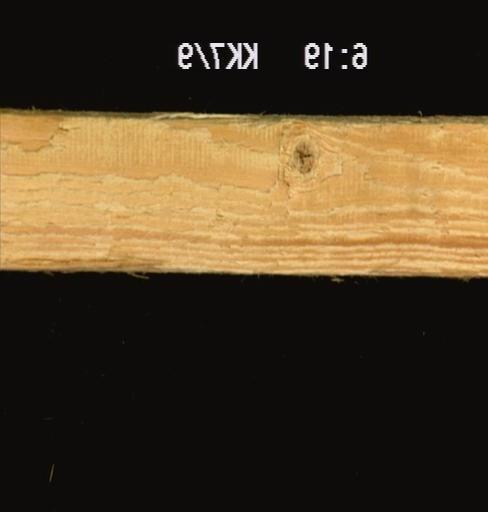sound_knot: (279, 128, 328, 189)
wave: (0, 249, 172, 271)
